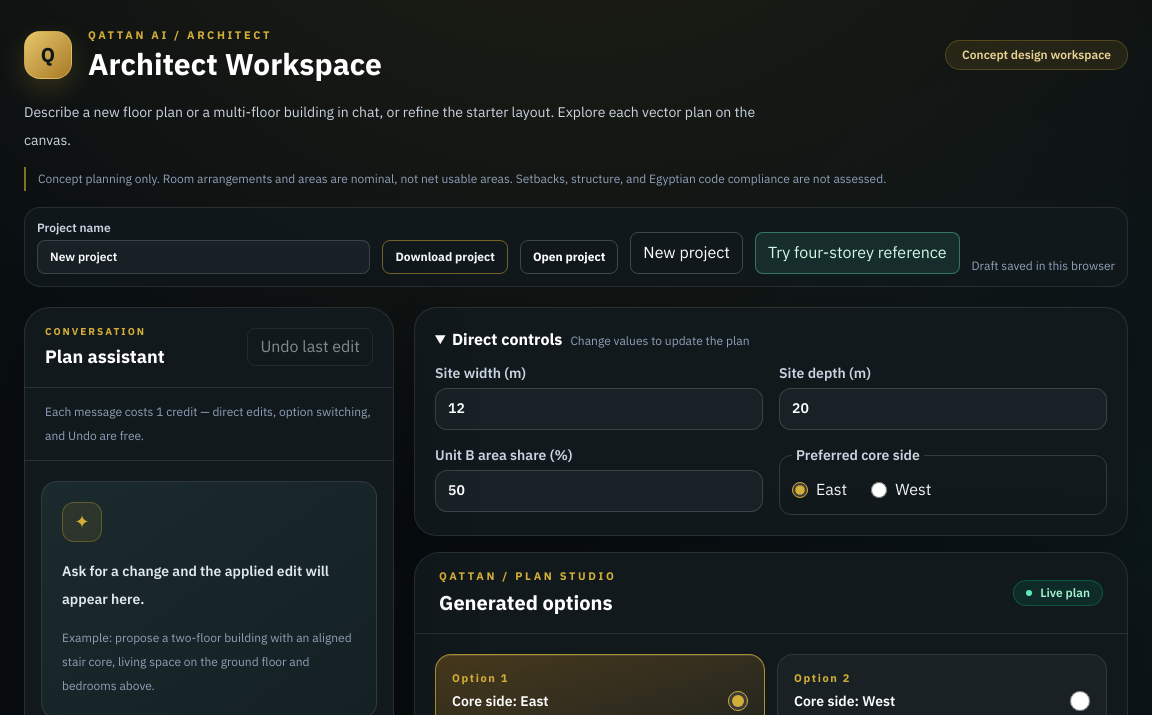
Test case: ArchitectWorkspace layout and canvas › shows structured errors beside the direct controls for an infeasible width
The image size is (1152, 715).
Replace the text in the number field labelled "Site width (m)" with "2" at (599, 408), box [435, 388, 763, 430]
(page scrolled)
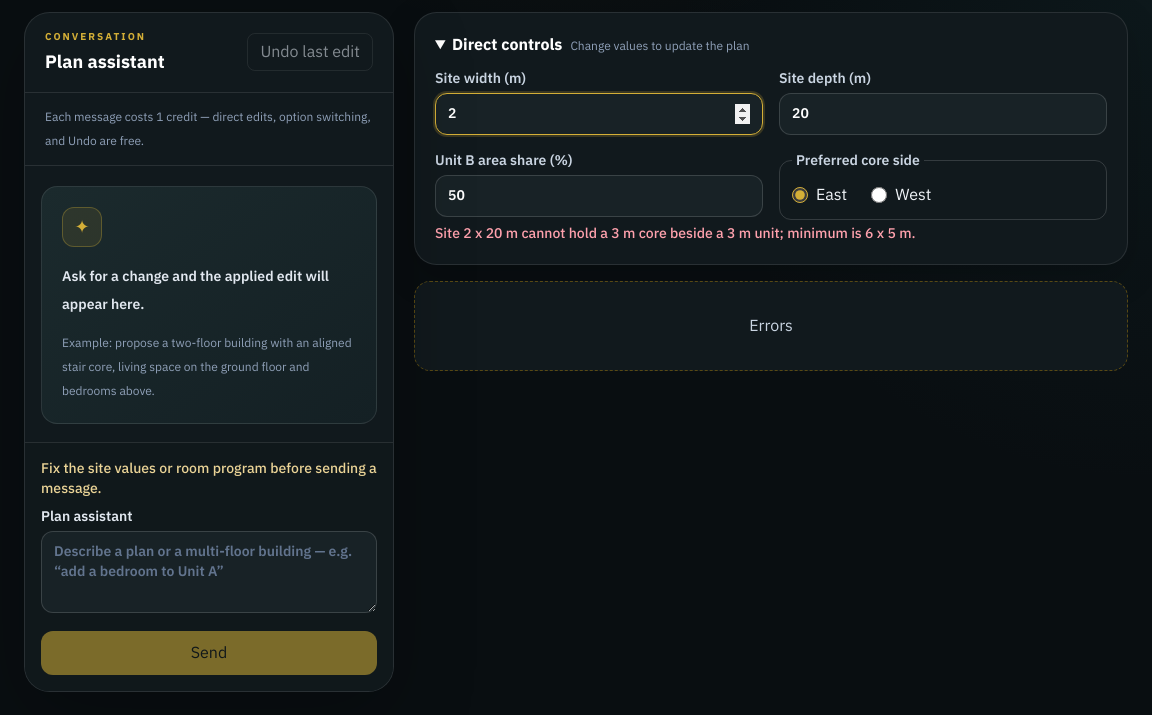
Expected: the button "Send" is disabled, [41, 630, 377, 674]
Result: the text "Fix the site values or room program" is shown at [41, 458, 377, 498]
Result: the message "Site 2 x 20 m cannot hold a 3 m core beside a 3 m unit; minimum is 6 x 5 m." is shown at [435, 222, 916, 244]
